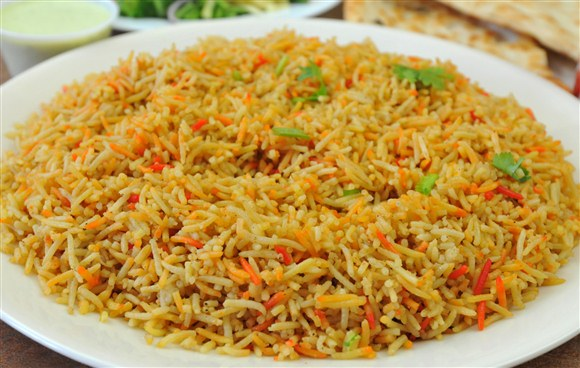plain rice: (21, 57, 569, 355)
